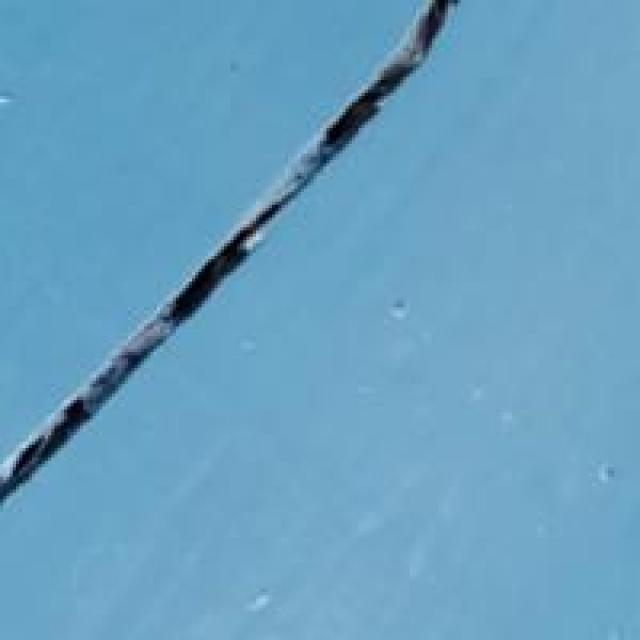crack: (3, 9, 467, 518)
